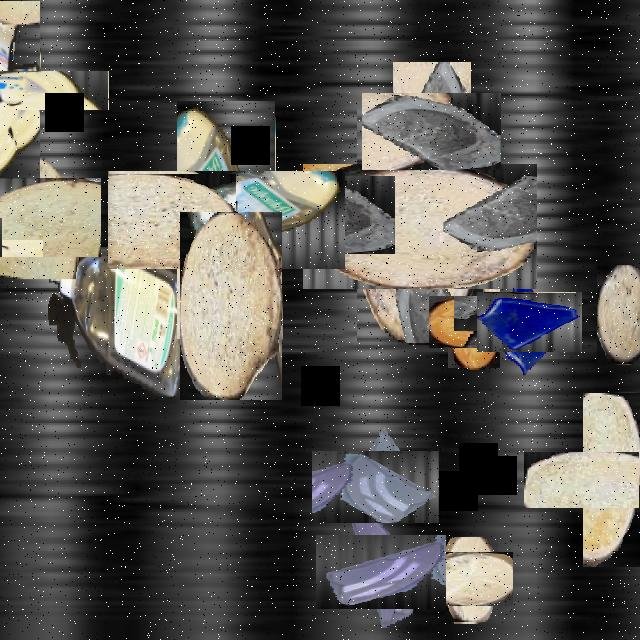glass: (378, 77, 486, 186), (330, 521, 432, 624), (325, 437, 425, 537), (488, 280, 570, 364), (0, 54, 18, 220)
plastic: (142, 136, 310, 304), (48, 247, 194, 397), (0, 36, 74, 145)
wood: (330, 136, 510, 316), (180, 212, 282, 400), (553, 422, 640, 537), (0, 166, 90, 267), (438, 286, 510, 358), (436, 545, 506, 614), (597, 265, 640, 364)
